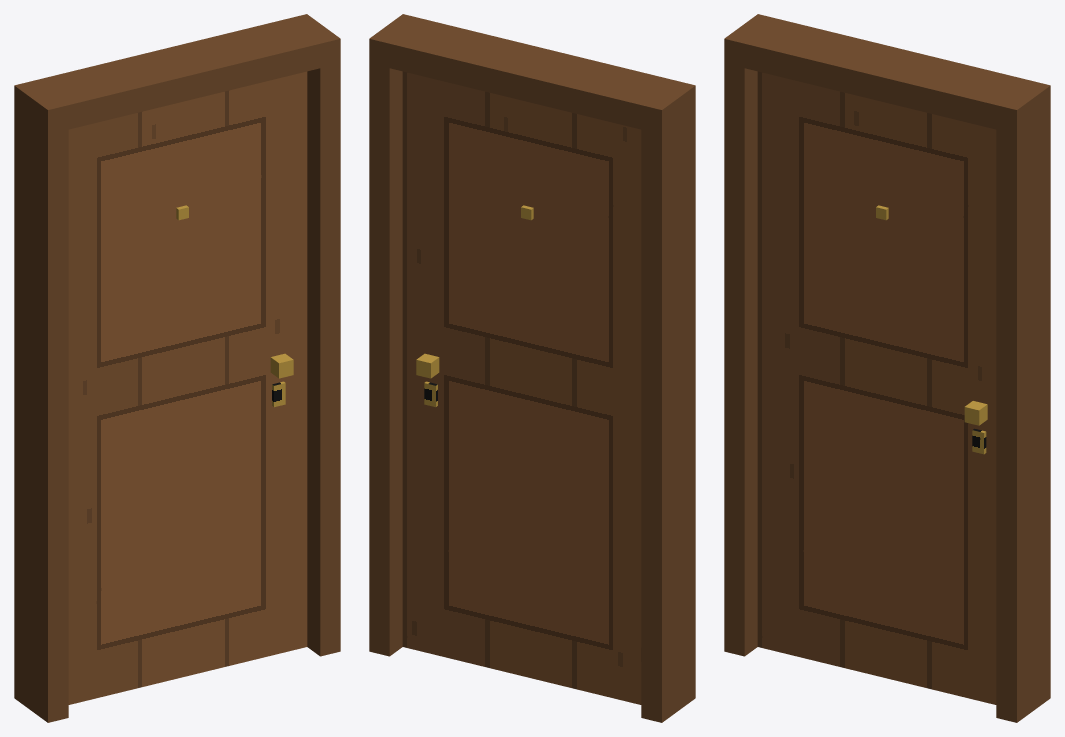
The model's file is t_door_locked_peep.glb.
3 views of the same model, side by side, from view 1: azimuth 30°, elevation 25°; view 2: azimuth 150°, elevation 25°; view 3: azimuth 330°, elevation 25° (orthographic).
Parts seen in each view (by area): view 1: block_panel, block_jamb-1, block_jamb1, block_head; view 2: block_panel, block_jamb-1, block_jamb1, block_head; view 3: block_panel, block_jamb1, block_jamb-1, block_head.
Part boxes in pixels (bbox=[...]): block_panel: bbox=[68, 71, 307, 704]; block_jamb-1: bbox=[14, 80, 68, 722]; block_jamb1: bbox=[287, 14, 340, 656]; block_head: bbox=[35, 19, 320, 129]; block_panel: bbox=[402, 71, 641, 704]; block_jamb-1: bbox=[641, 80, 695, 722]; block_jamb1: bbox=[369, 14, 422, 656]; block_head: bbox=[389, 19, 674, 129]; block_panel: bbox=[757, 71, 996, 704]; block_jamb1: bbox=[996, 80, 1050, 722]; block_jamb-1: bbox=[724, 14, 777, 656]; block_head: bbox=[744, 19, 1029, 129].
Size of the model in its own units: 1 by 2 by 0.2.
Materials: 2 (2 with a texture image).
